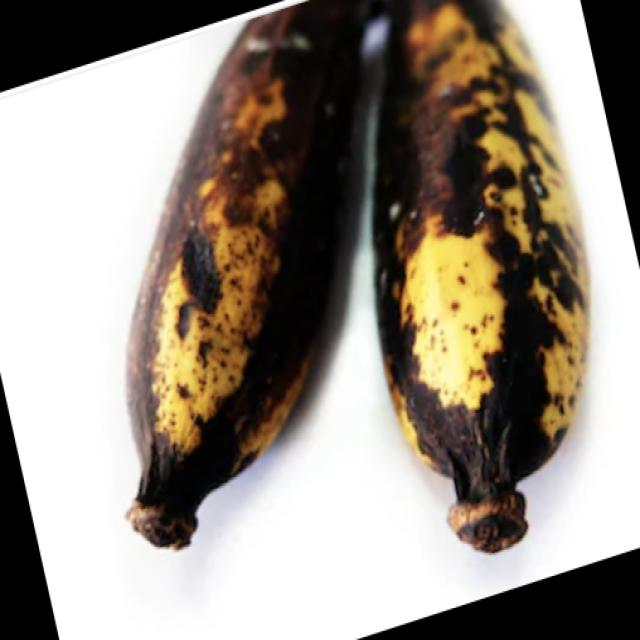Rotten: (110, 0, 372, 553), (352, 0, 592, 570)
